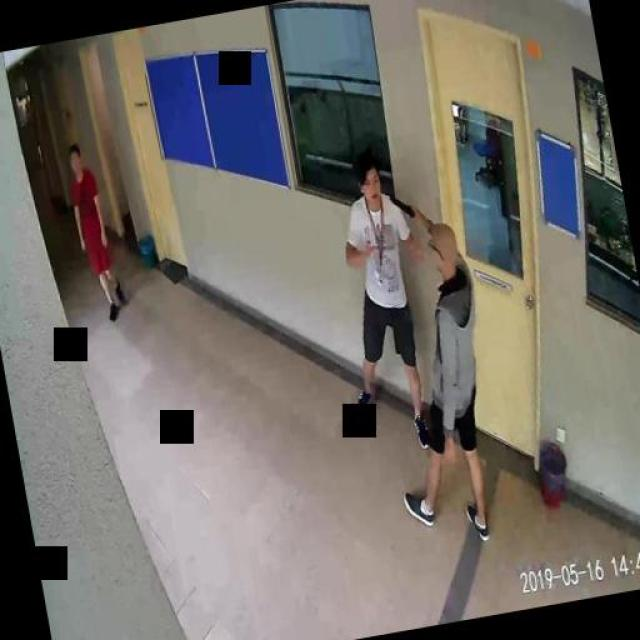gun: (384, 186, 425, 228)
